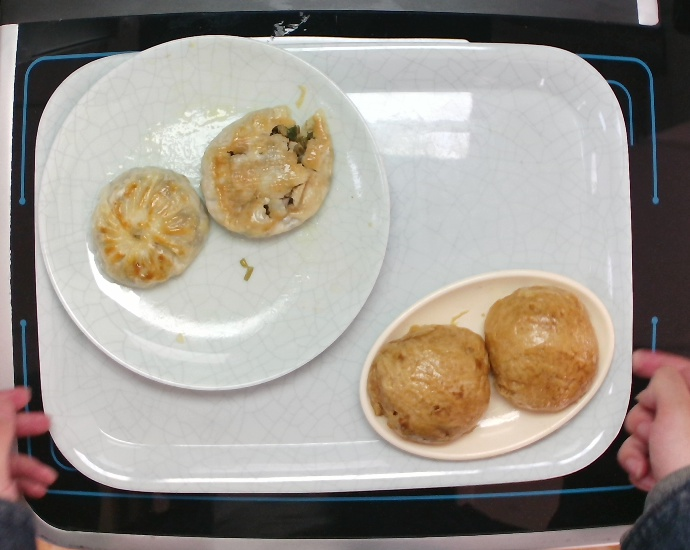JYsf-Da_Yuan_Pan: (36, 32, 392, 392)
JYsf-Tuo_Yuan_Wan: (356, 266, 617, 465)
